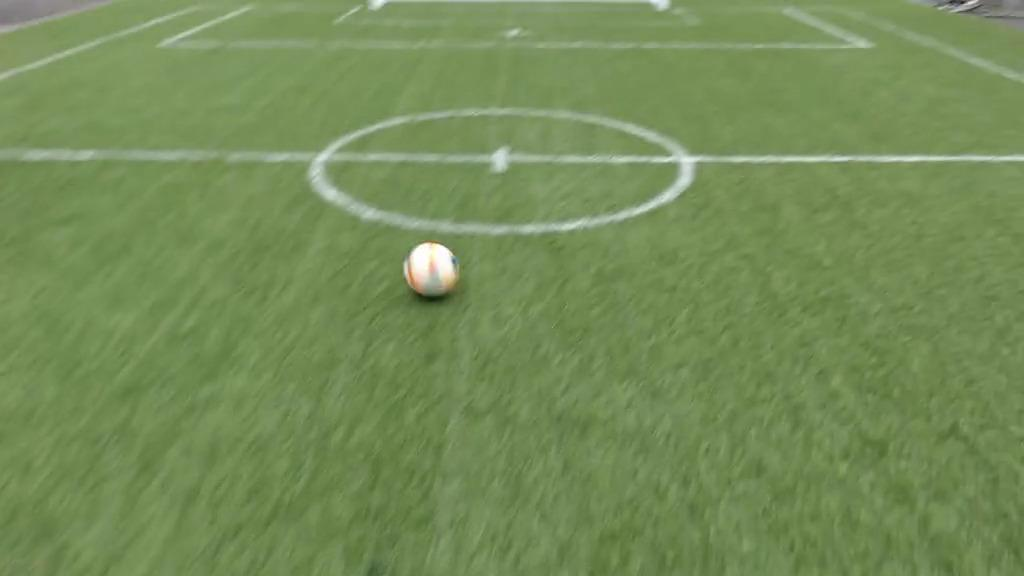ball: (395, 228, 470, 308)
